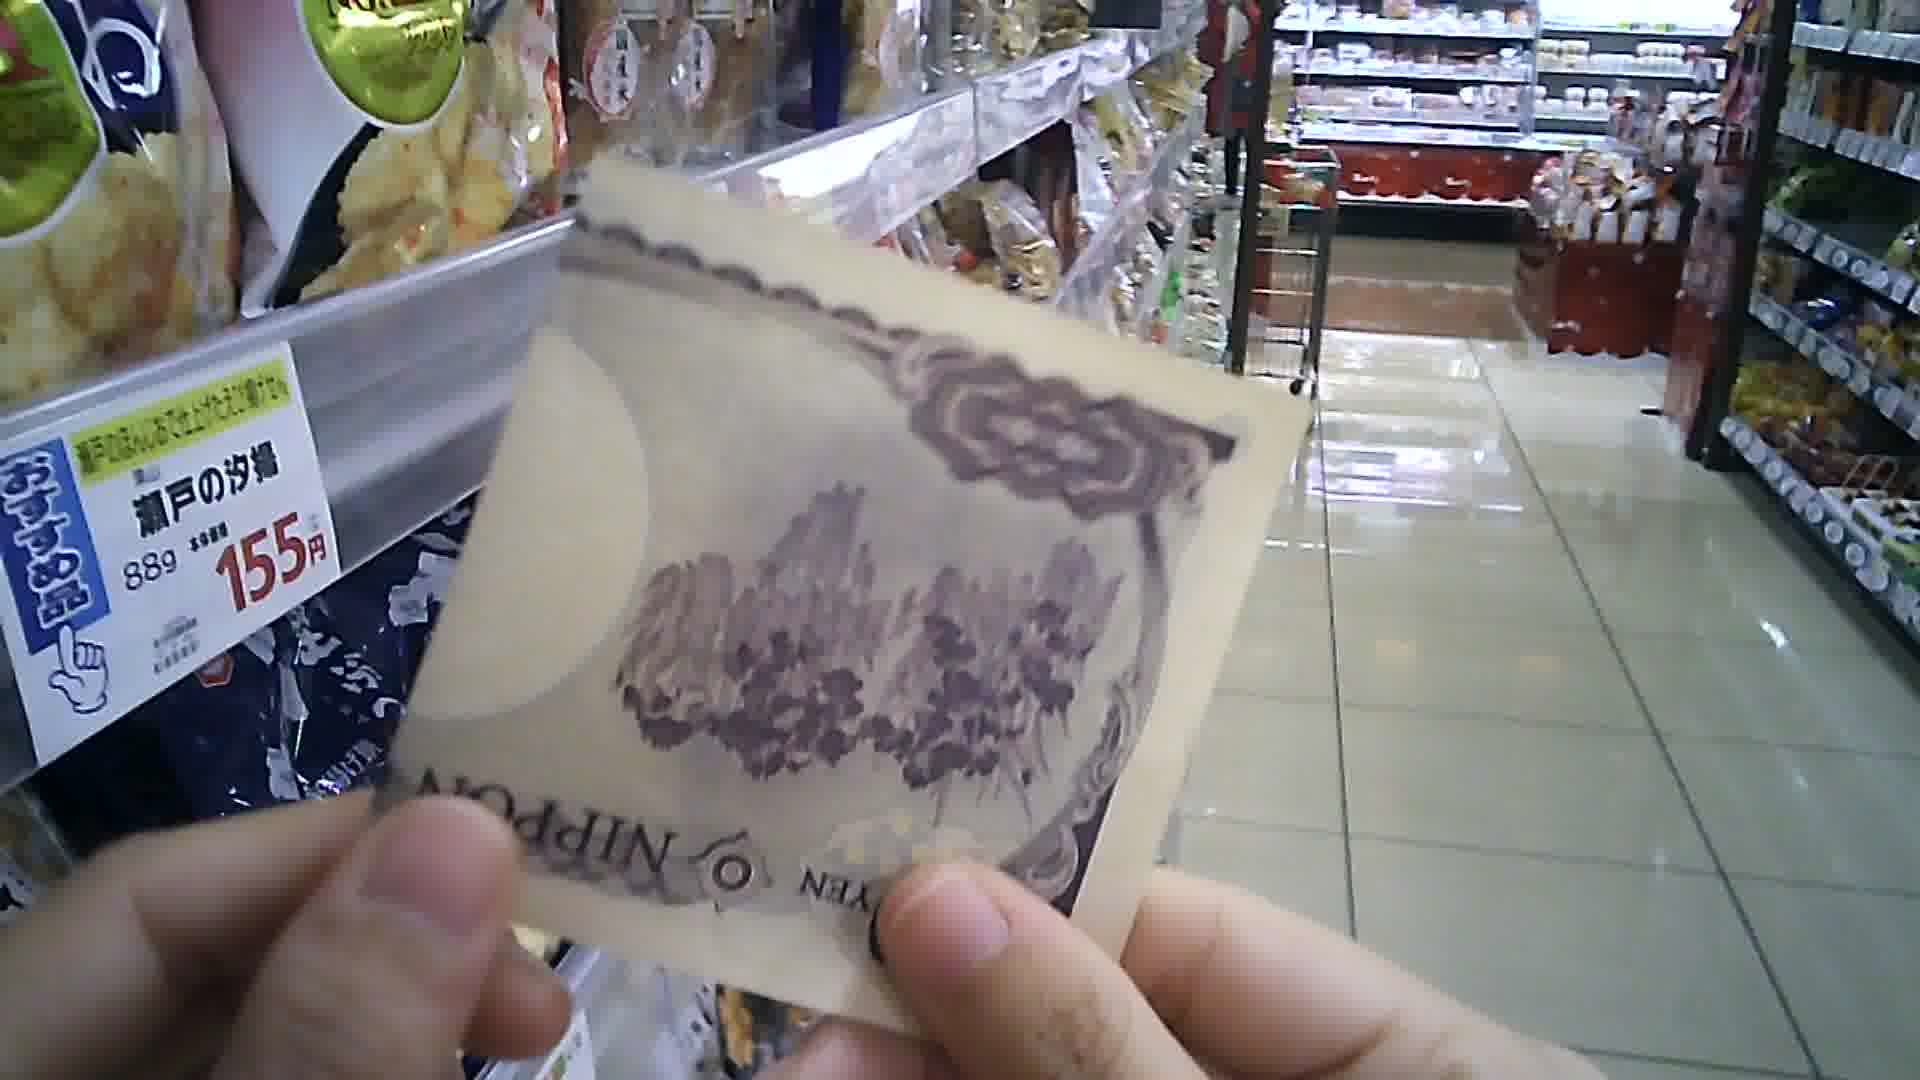5,000 Yen: (392, 145, 1317, 1059)
